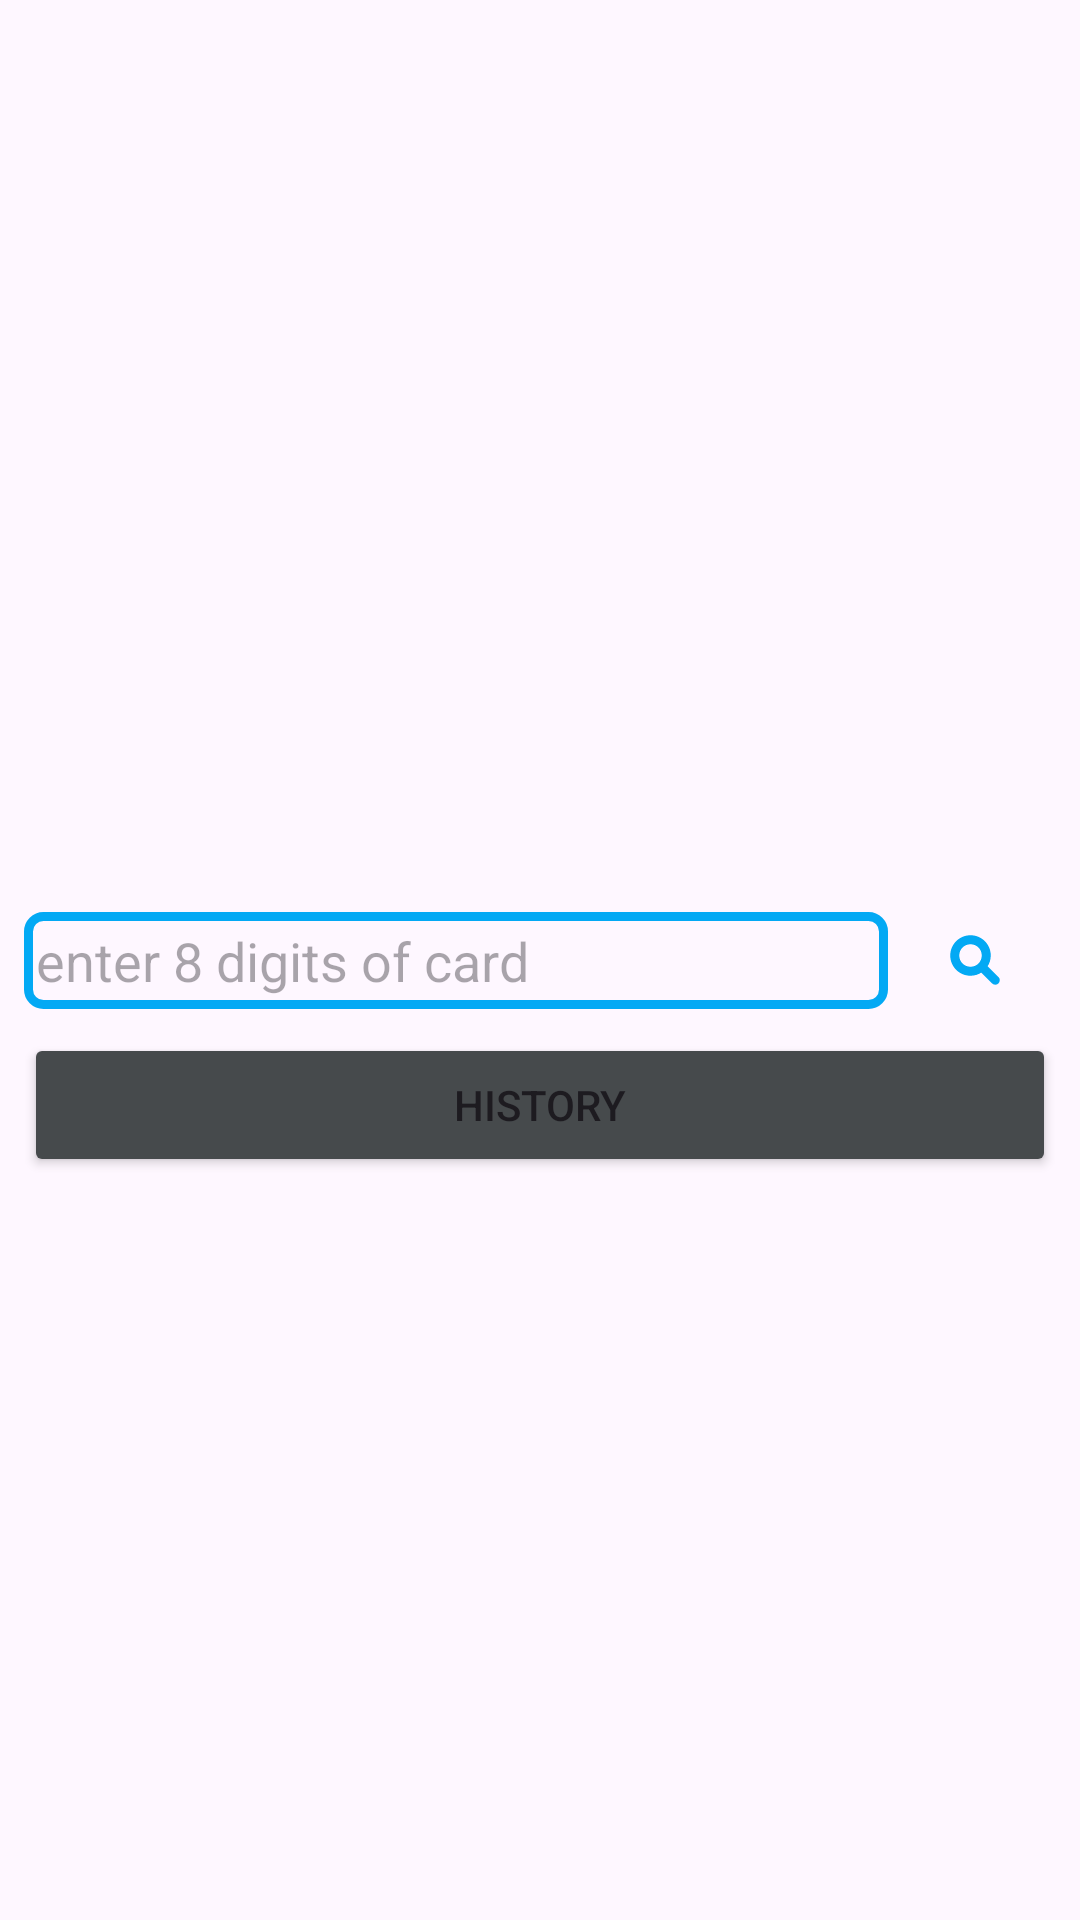

Point at icon controls on the screen. Image size 1080x1920, points as (x=x, y=y).
find: (x=975, y=960)
